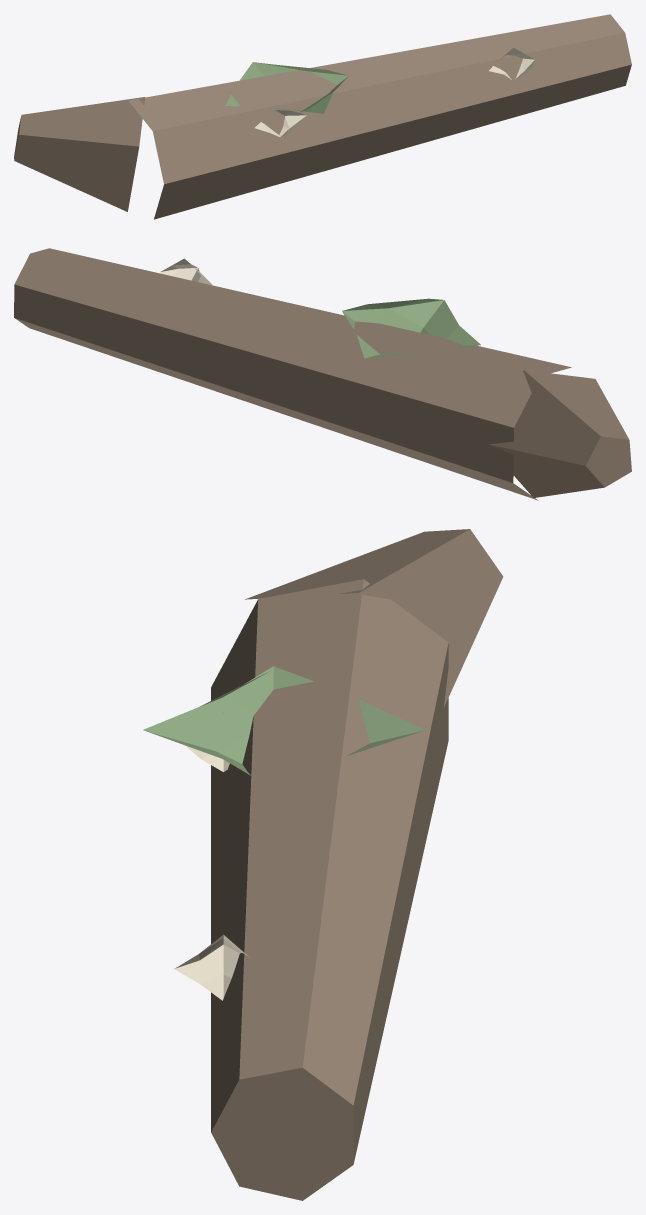
The model's file is log_v39.glb.
The picture shows the model from 3 angles, top to bottom: view 1: azimuth 30°, elevation 25°; view 2: azimuth 150°, elevation 25°; view 3: azimuth 270°, elevation 25°; orthographic projection. The views are drawn at different scales.
Parts seen in each view (by area): view 1: lod0; view 2: lod0; view 3: lod0.
Boxes of the visible parts, box(x1,y1,x2,y2) form: lod0: box(14, 14, 631, 219); lod0: box(14, 248, 631, 500); lod0: box(143, 529, 503, 1200).
Size of what is drawn, in the model's own units: 3.35 by 0.7156 by 0.9239.
